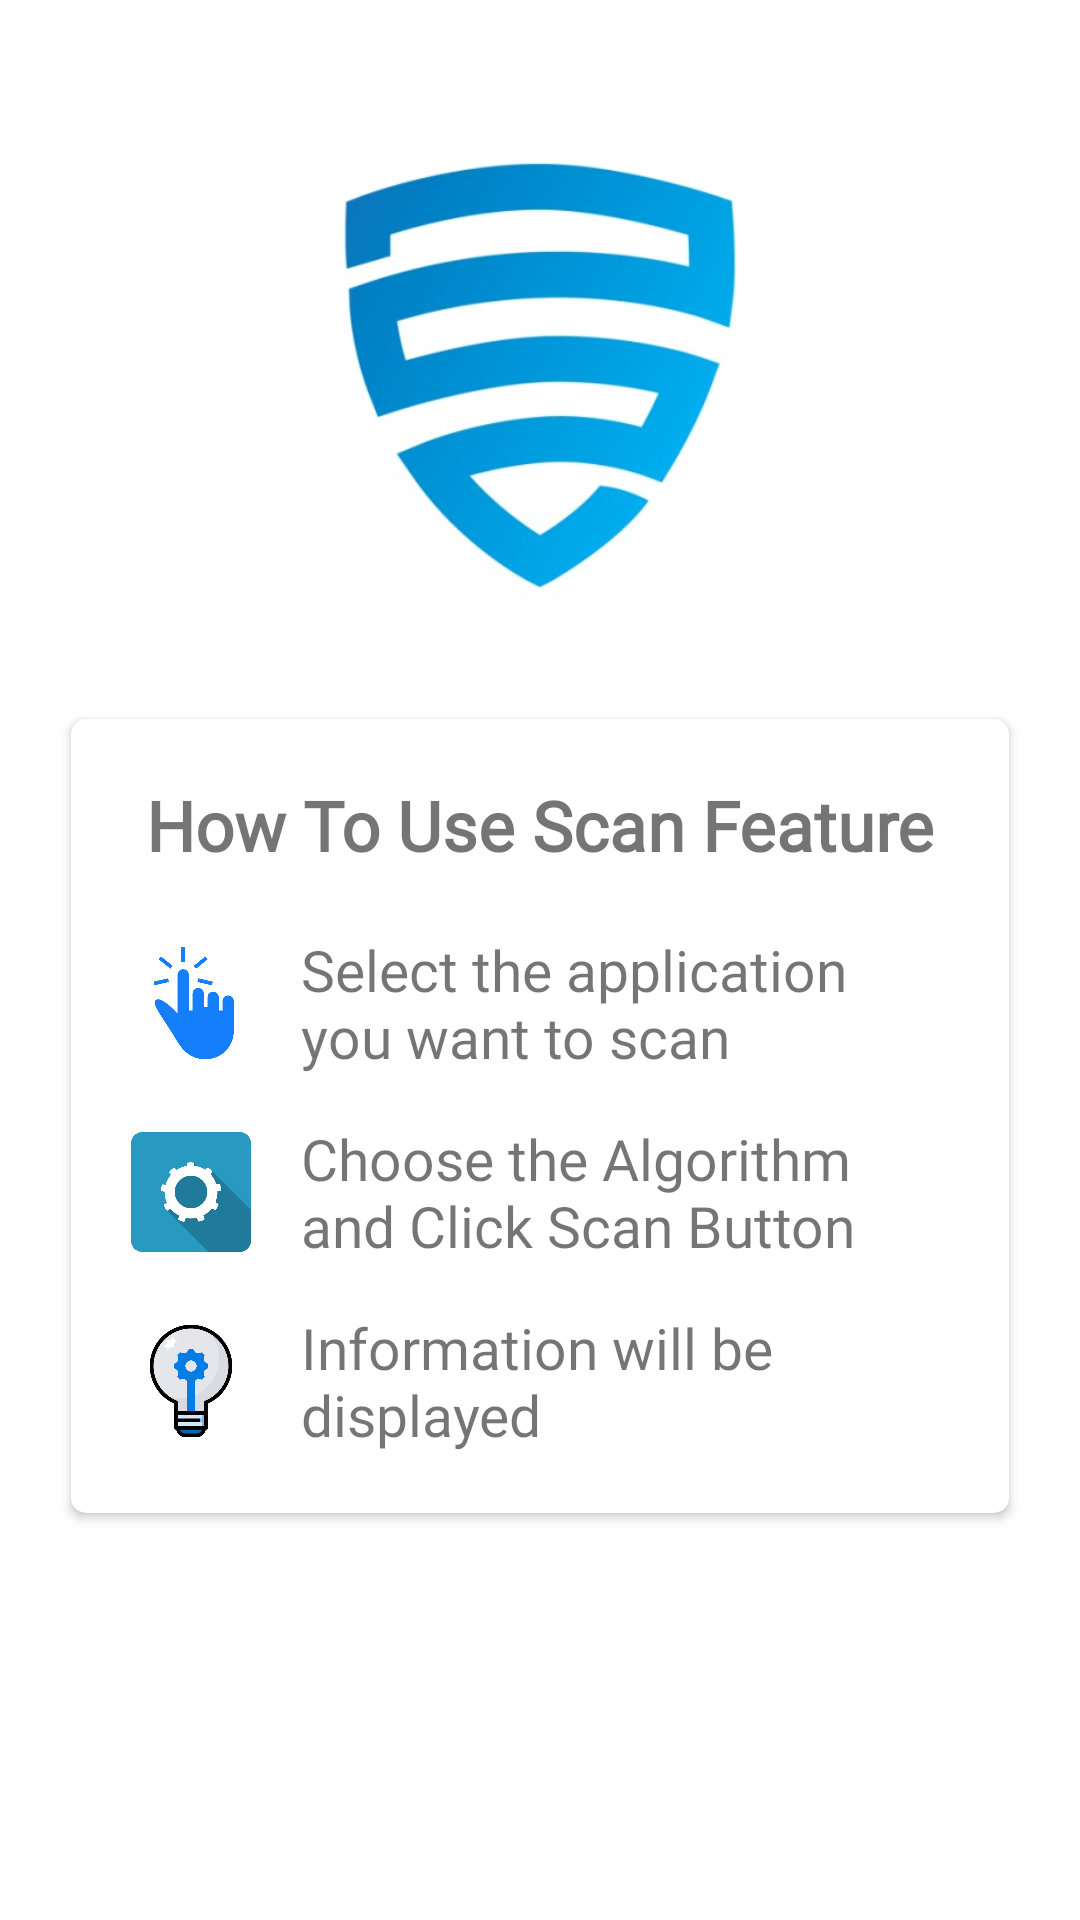

Icons on this 1080px x 1920px Android screen, each with its box as (x1, y1, x2, y2):
hands: (154, 947, 234, 1059)
setting: (131, 1132, 251, 1252)
think: (150, 1325, 232, 1437)
